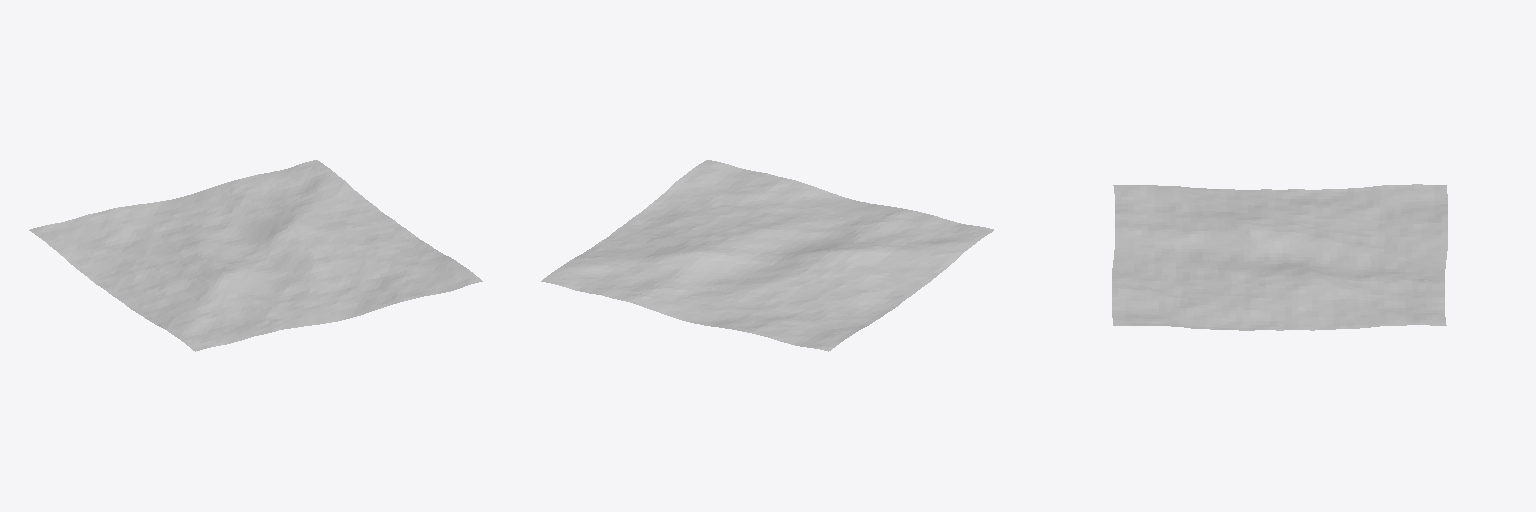
The model's file is watter.obj.
The picture shows the model from 3 angles: view 1: azimuth 30°, elevation 25°; view 2: azimuth 150°, elevation 25°; view 3: azimuth 270°, elevation 25°; orthographic projection.
Parts seen in each view (by area): view 1: Grid; view 2: Grid; view 3: Grid.
Part boxes in pixels (x1,y1,x2,y2): Grid: (29,160,482,351); Grid: (541,160,993,351); Grid: (1112,184,1447,330).
Bounding box in the file's own units: 50.24 × 1.55 × 50.51.